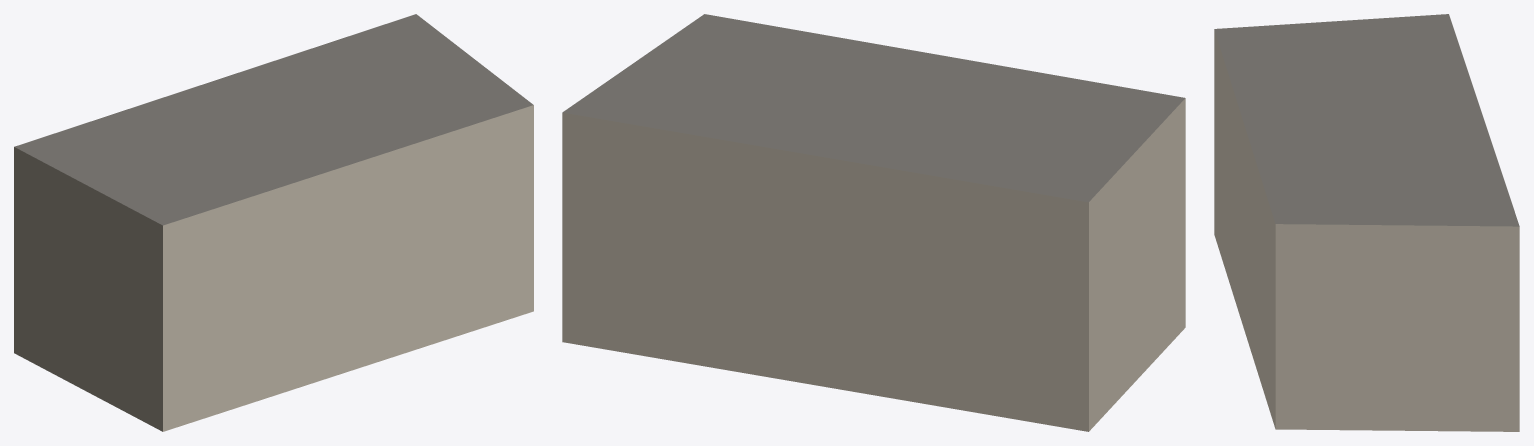
3 renders of one model, left to right at view 1: azimuth 30°, elevation 25°; view 2: azimuth 150°, elevation 25°; view 3: azimuth 270°, elevation 25°, orthographic. The views are drawn at different scales.
Visible parts, largest first — view 1: HP-w311064998; view 2: HP-w311064998; view 3: HP-w311064998.
Part boxes in pixels (x1,y1,x2,y2): HP-w311064998: (14, 14, 533, 431); HP-w311064998: (562, 14, 1185, 431); HP-w311064998: (1214, 14, 1519, 431).
Size of the model in its own units: 39.94 by 18 by 24.26.
